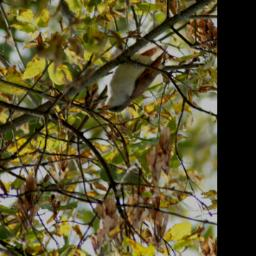Cuckoo: (94, 48, 175, 120)
